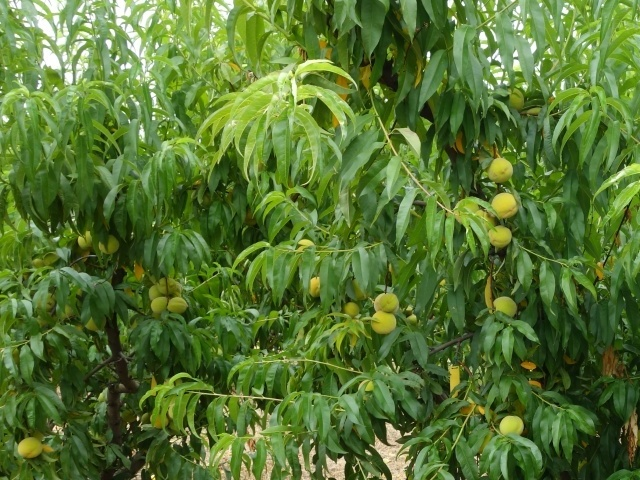peach: (370, 289, 402, 320), (485, 157, 516, 188), (488, 191, 518, 220), (496, 413, 526, 441), (490, 295, 519, 323), (368, 308, 396, 337), (15, 435, 44, 461), (486, 223, 513, 250), (502, 84, 526, 112), (302, 273, 324, 300), (473, 207, 498, 230), (164, 293, 190, 315), (96, 233, 119, 257), (74, 229, 98, 251), (155, 276, 178, 297), (150, 297, 172, 318), (143, 284, 168, 301), (341, 298, 360, 320)
